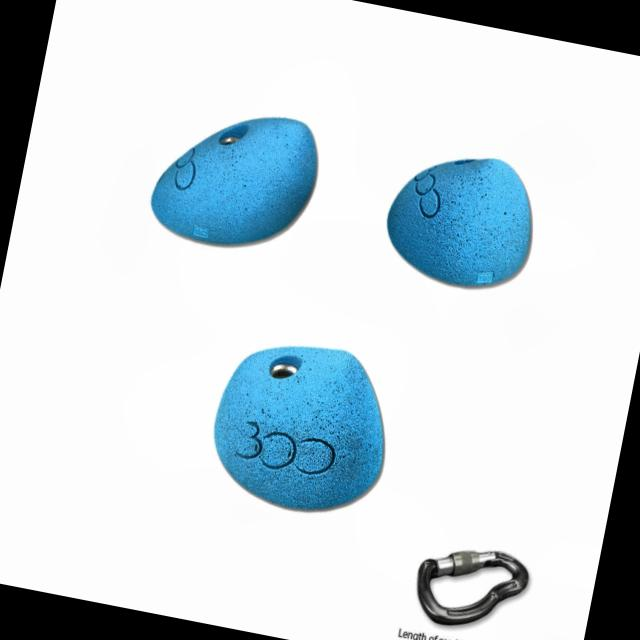Hold: (201, 328, 408, 528), (138, 95, 332, 263), (378, 144, 550, 300)
